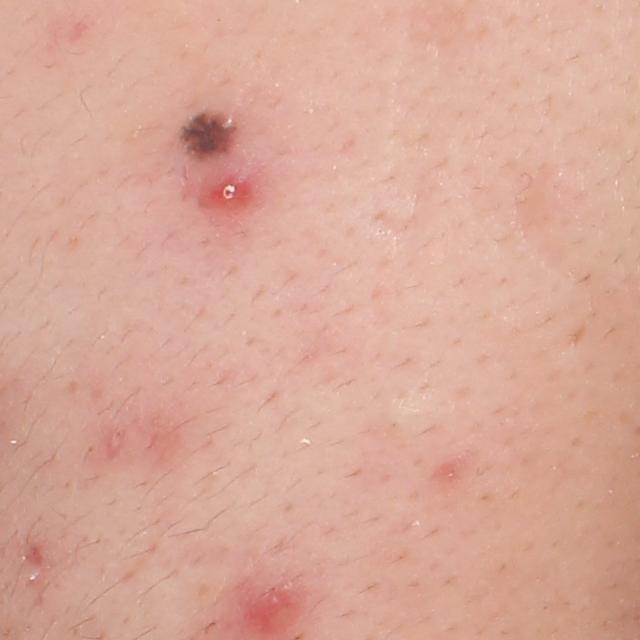atrophic_scar: (24, 544, 44, 565)
nevus: (179, 108, 235, 157)
